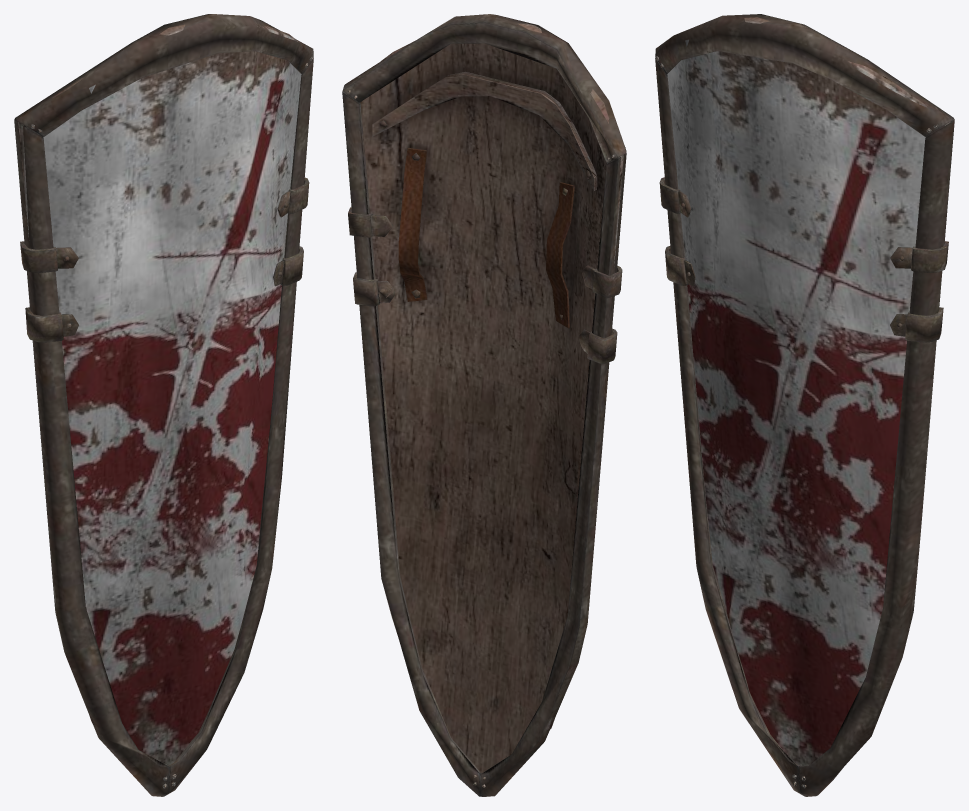
The model's file is kite_shield.glb.
3 renders of one model, left to right at view 1: azimuth 30°, elevation 25°; view 2: azimuth 150°, elevation 25°; view 3: azimuth 330°, elevation 25°, orthographic. The views are drawn at different scales.
Visible parts, largest first — view 1: kite_shield_body, kite_shield_metal_trim, kite_shield_clamps_and_bolts; view 2: kite_shield_body, kite_shield_metal_trim, kite_shield_clamps_and_bolts; view 3: kite_shield_body, kite_shield_metal_trim, kite_shield_clamps_and_bolts.
Part boxes in pixels (box(x1,y1,x2,y2)): kite_shield_body: box(18, 24, 301, 765); kite_shield_metal_trim: box(14, 14, 313, 796); kite_shield_clamps_and_bolts: box(20, 56, 312, 788); kite_shield_body: box(360, 23, 623, 772); kite_shield_metal_trim: box(342, 14, 626, 796); kite_shield_clamps_and_bolts: box(347, 90, 625, 787); kite_shield_body: box(667, 17, 950, 766); kite_shield_metal_trim: box(655, 14, 954, 796); kite_shield_clamps_and_bolts: box(656, 56, 948, 788).
Bounding box in the file's own units: 0.5425 × 1.39 × 0.1347.
2 materials, 2 textured.
